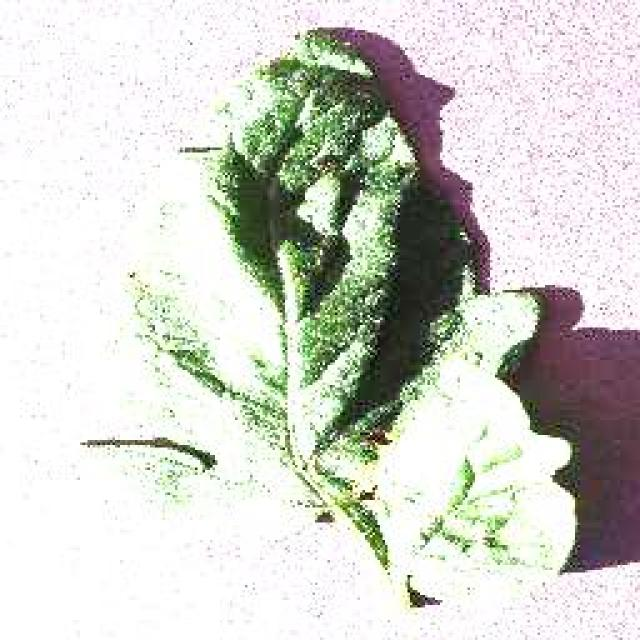Tomato___Target_Spot: (80, 30, 575, 605)
